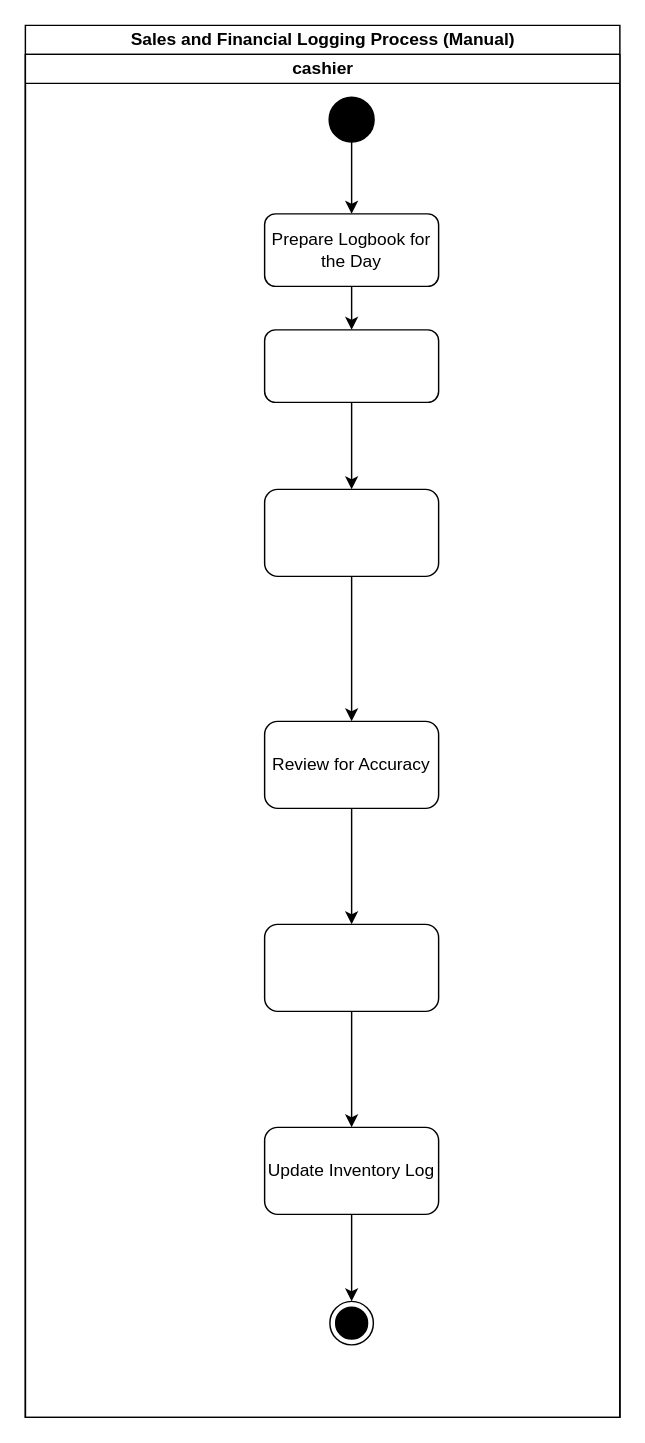
This 645x1443 diagram has some shape labels left out. The shapes that lost their labels are listed below. From the top down, each one's centre as x and y in pixels, then its label:
At (x=351, y=365): "Record Each Sale".
At (x=351, y=532): "Tally Daily Sales".
At (x=351, y=967): "Close the Day".
